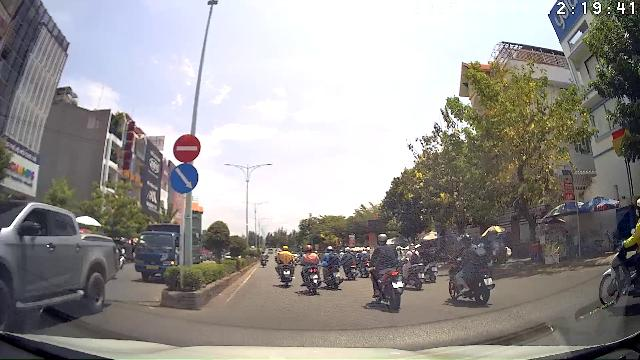102-cam-di-nguoc-chieu: (173, 133, 200, 162)
302a-huong-phai-di-vong-chuong-ngai-vat-1: (170, 164, 200, 194)
